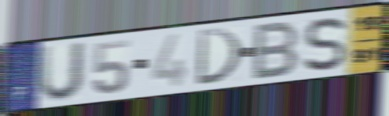4: (150, 32, 190, 90)
5: (91, 37, 132, 96)
B: (250, 18, 301, 82)
D: (194, 27, 245, 87)
S: (302, 15, 349, 73)
U: (36, 40, 89, 104)
